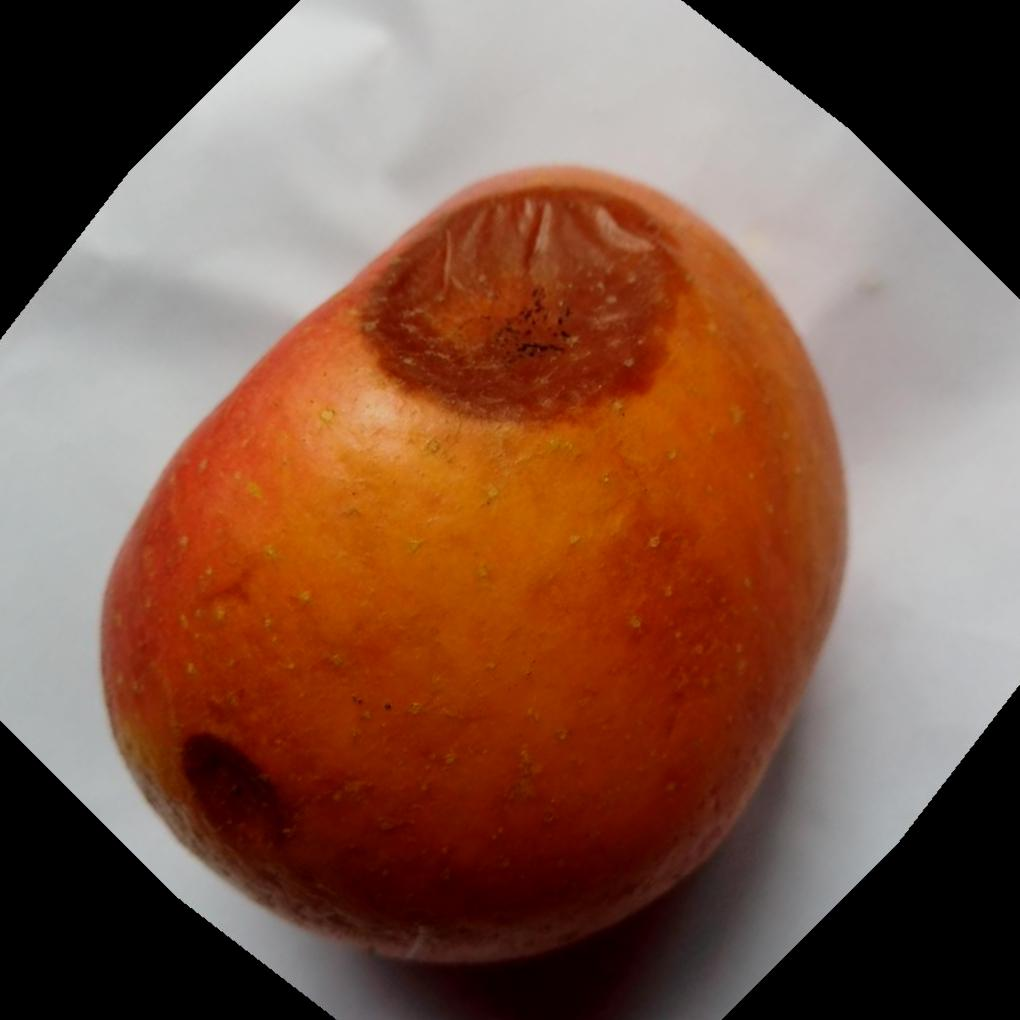FreshOrange: (98, 159, 854, 966)
